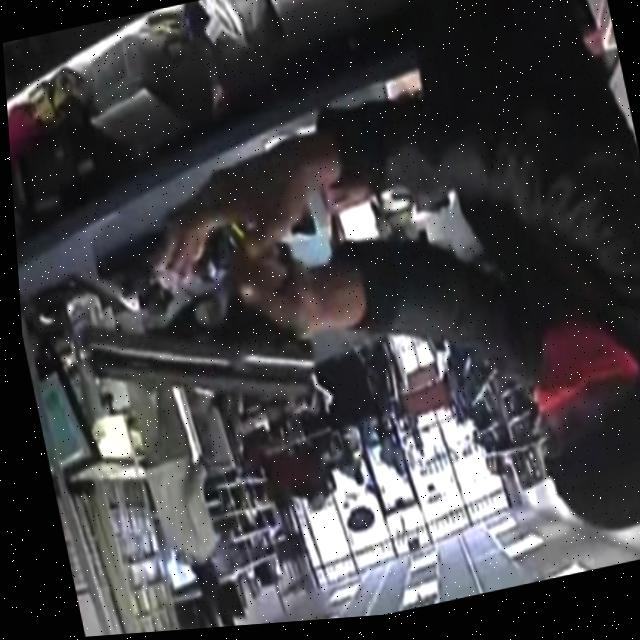pistol: (63, 275, 320, 451)
